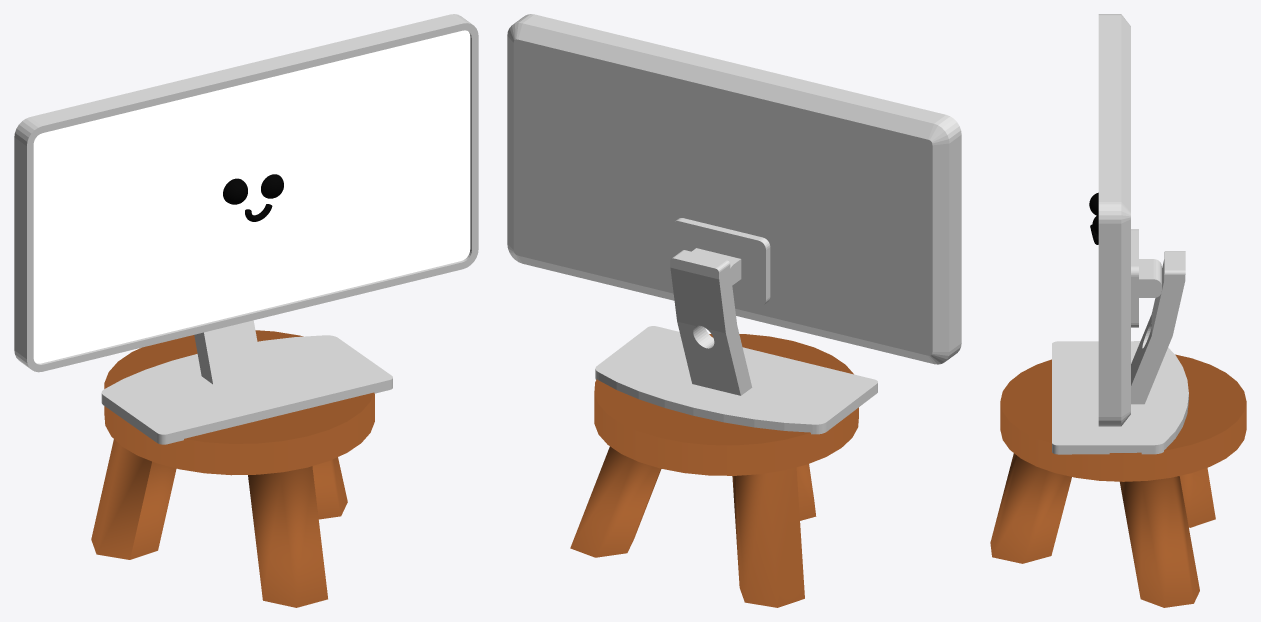
The model's file is projects_gltf.glb.
3 renders of one model, left to right at view 1: azimuth 30°, elevation 25°; view 2: azimuth 150°, elevation 25°; view 3: azimuth 270°, elevation 25°, orthographic. The views are drawn at different scales.
Visible parts, largest first — view 1: Cube, Cylinder.003, Cube.001; view 2: Cube, Cylinder.003, Cube.001, Plane; view 3: Cylinder.003, Cube.001, Cube, Plane.
Part boxes in pixels (x1,y1,x2,y2): Cube: (14, 14, 478, 372); Cylinder.003: (91, 330, 374, 607); Cube.001: (101, 320, 392, 444); Cube: (507, 14, 961, 364); Cylinder.003: (570, 334, 858, 607); Cube.001: (595, 250, 877, 434); Plane: (671, 218, 770, 306); Cylinder.003: (990, 354, 1246, 607); Cube.001: (1052, 251, 1188, 454); Cube: (1098, 14, 1130, 426); Plane: (1131, 229, 1161, 327).
Size of the model in its own units: 3.85 by 3.95 by 2.08.
